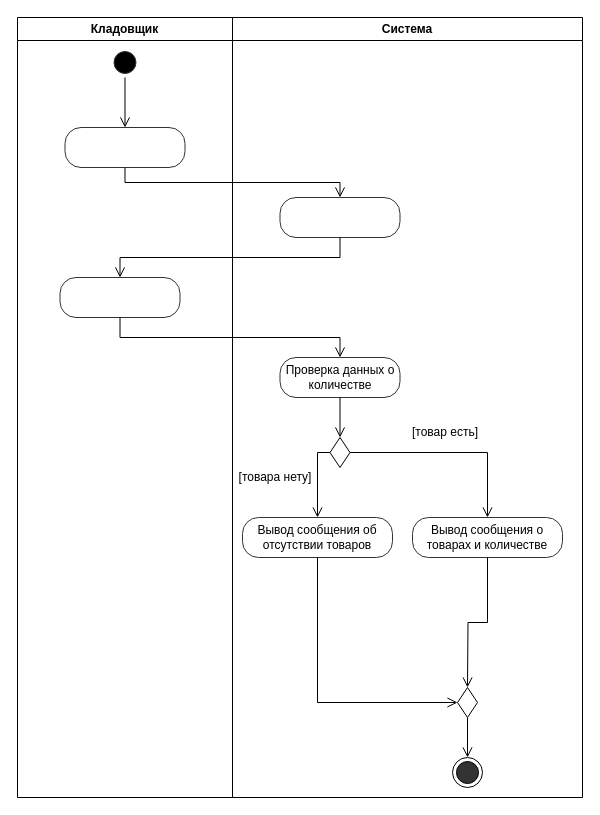
Some shapes in this 600 by 815 pixel diagram are drawn without their labels. Here are the shapes that lost their labels. From the top down, the centre of each, then its label:
point 124,147: Выбор операции "Просмотр количества"
point 339,217: Запрос параметров просмотра
point 119,297: Ввод параметров
